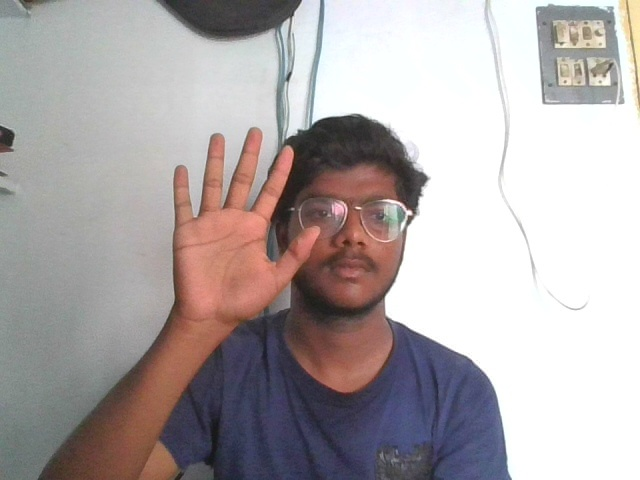Hello: (166, 121, 325, 315)
